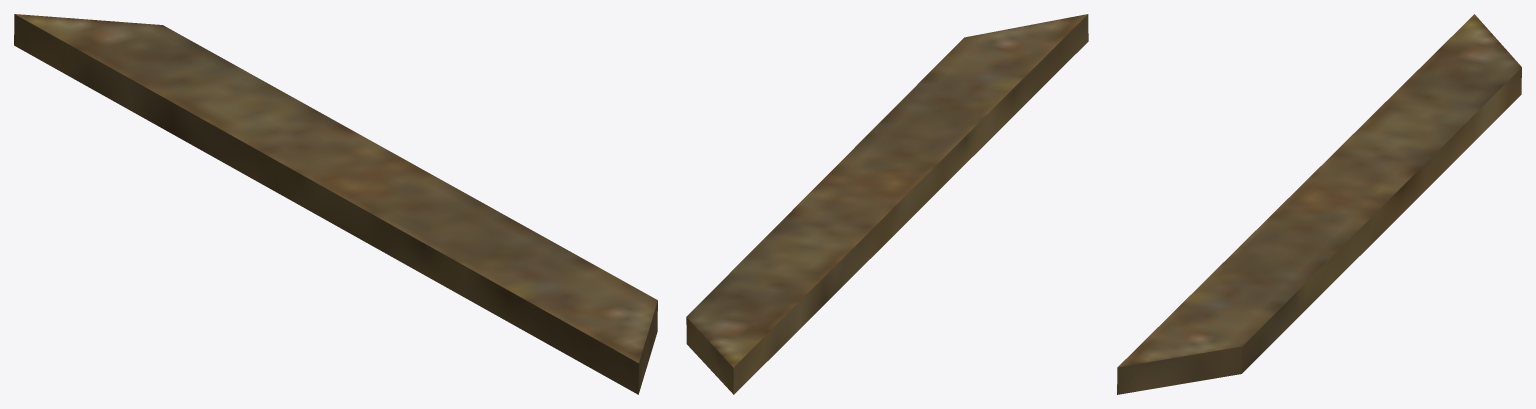
3 renders of one model, left to right at view 1: azimuth 30°, elevation 25°; view 2: azimuth 150°, elevation 25°; view 3: azimuth 330°, elevation 25°, orthographic. The views are drawn at different scales.
Parts seen in each view (by area): view 1: WoodDecor03; view 2: WoodDecor03; view 3: WoodDecor03.
Boxes of the visible parts, x1=… form: WoodDecor03: x1=14, y1=14, x2=657, y2=394; WoodDecor03: x1=686, y1=14, x2=1088, y2=394; WoodDecor03: x1=1117, y1=14, x2=1521, y2=394.
Size of what is drawn, in the model's own units: 0.3165 by 0.0542 by 1.49.
Materials: 1 (1 with a texture image).
